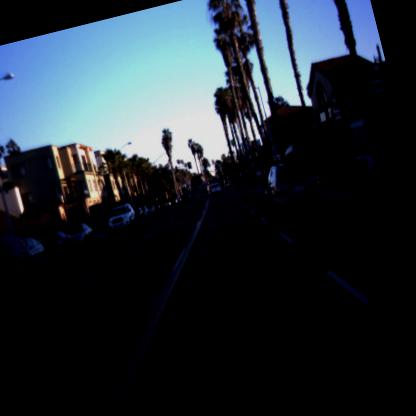trafficlight: (204, 162, 209, 170), (217, 160, 221, 166)
